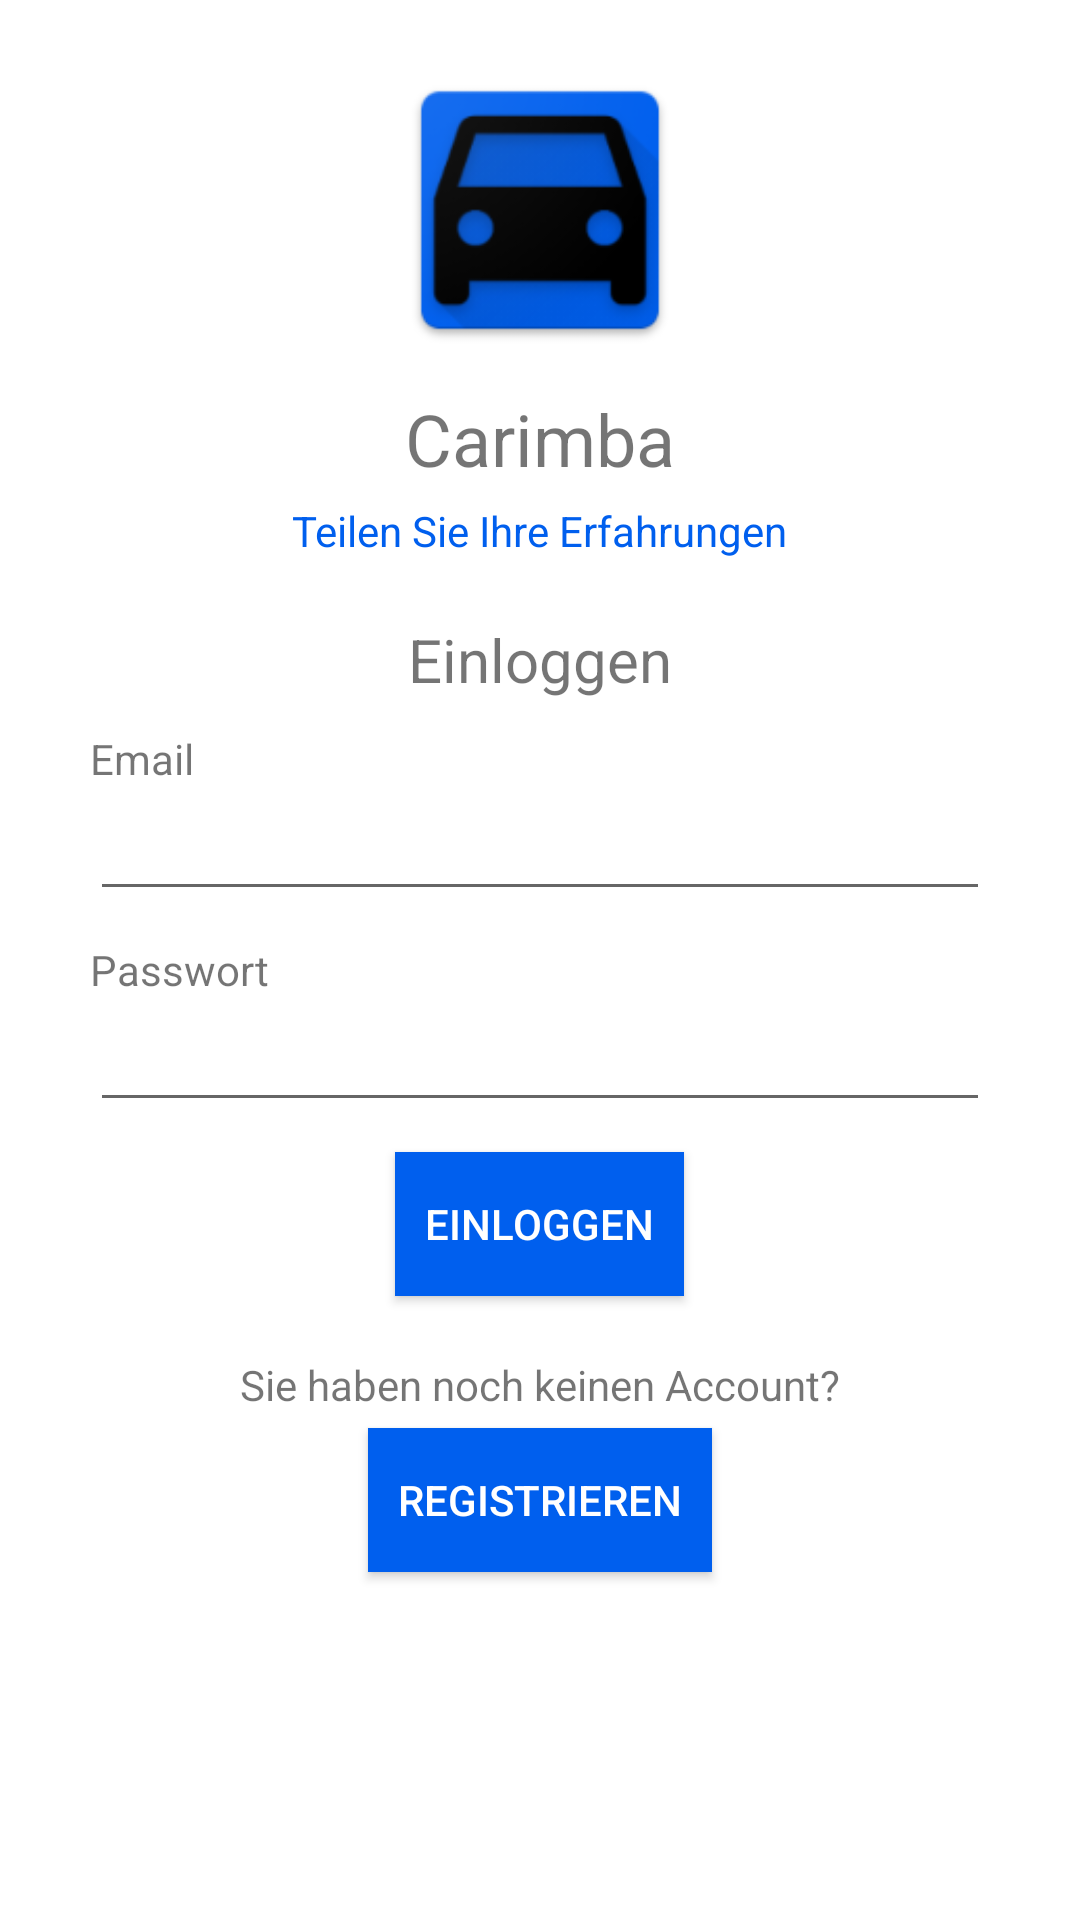

Locate icon controls on the screen. Image size 1080*1920, boxes as [x1=x1, y1=y1, x2=x2, y2=y2].
car: [x1=419, y1=90, x2=661, y2=335]
